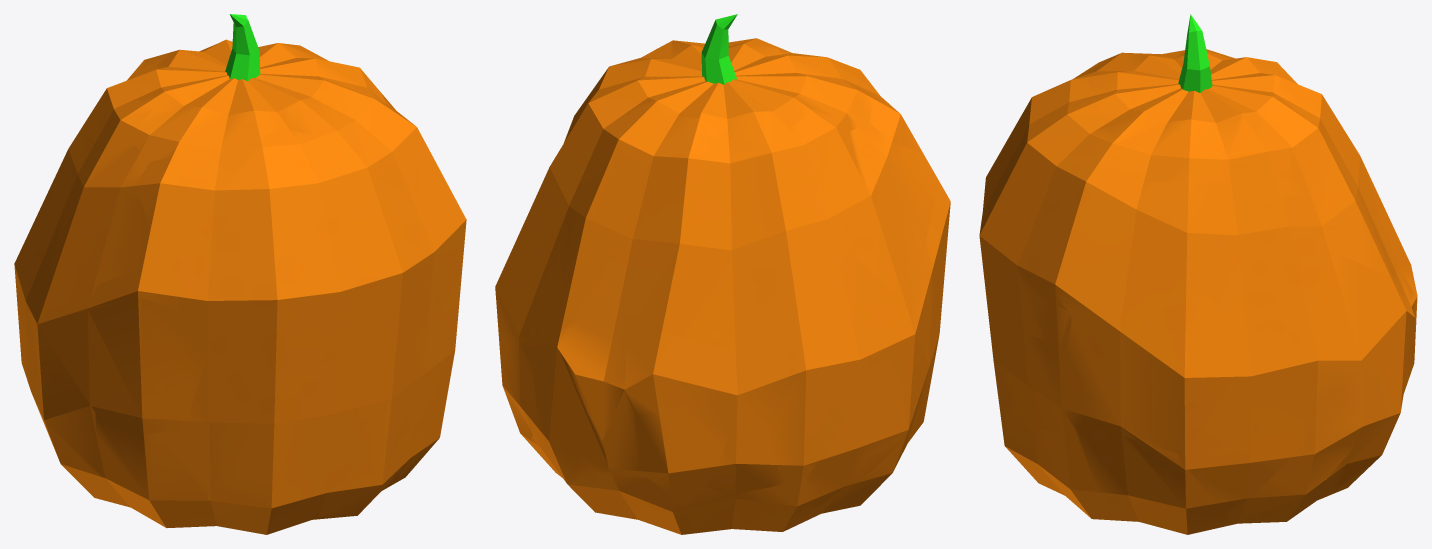
The model's file is Abobora_06_Root.fbx.
3 renders of one model, left to right at view 1: azimuth 30°, elevation 25°; view 2: azimuth 150°, elevation 25°; view 3: azimuth 270°, elevation 25°, orthographic. The views are drawn at different scales.
Parts seen in each view (by area): view 1: Abobora_06_frag_018, Abobora_06_frag_013, Abobora_06_frag_070, Abobora_06_frag_039, Abobora_06_frag_074, Abobora_06_frag_009, Abobora_06_frag_034, Abobora_06_frag_048, Abobora_06_frag_028, Abobora_06_frag_053, Abobora_06_frag_054, Abobora_06_frag_075 (+19 smaller); view 2: Abobora_06_frag_052, Abobora_06_frag_024, Abobora_06_frag_039, Abobora_06_frag_062, Abobora_06_frag_071, Abobora_06_frag_023, Abobora_06_frag_049, Abobora_06_frag_006, Abobora_06_frag_069, Abobora_06_frag_050, Abobora_06_frag_040, Abobora_06_frag_056 (+32 smaller); view 3: Abobora_06_frag_032, Abobora_06_frag_046, Abobora_06_frag_014, Abobora_06_frag_033, Abobora_06_frag_038, Abobora_06_frag_073, Abobora_06_frag_042, Abobora_06_frag_029, Abobora_06_frag_058, Abobora_06_frag_055, Abobora_06_frag_041, Abobora_06_frag_071 (+26 smaller).
Boxes of the visible parts, <box> form: Abobora_06_frag_018: <box>182,218,325,369</box>; Abobora_06_frag_013: <box>45,296,206,434</box>; Abobora_06_frag_070: <box>224,128,389,240</box>; Abobora_06_frag_039: <box>46,142,205,305</box>; Abobora_06_frag_074: <box>184,357,306,474</box>; Abobora_06_frag_009: <box>132,87,283,226</box>; Abobora_06_frag_034: <box>302,330,404,471</box>; Abobora_06_frag_048: <box>95,411,214,527</box>; Abobora_06_frag_028: <box>282,224,390,352</box>; Abobora_06_frag_053: <box>198,458,336,534</box>; Abobora_06_frag_054: <box>377,222,451,354</box>; Abobora_06_frag_075: <box>35,320,113,499</box>; Abobora_06_frag_052: <box>706,106,858,261</box>; Abobora_06_frag_024: <box>742,249,915,371</box>; Abobora_06_frag_039: <box>846,123,939,311</box>; Abobora_06_frag_062: <box>572,207,695,343</box>; Abobora_06_frag_071: <box>589,95,714,215</box>; Abobora_06_frag_023: <box>632,242,753,351</box>; Abobora_06_frag_049: <box>624,330,736,415</box>; Abobora_06_frag_006: <box>770,369,868,485</box>; Abobora_06_frag_069: <box>534,318,606,459</box>; Abobora_06_frag_050: <box>636,403,729,493</box>; Abobora_06_frag_040: <box>805,347,904,490</box>; Abobora_06_frag_056: <box>579,336,641,475</box>; Abobora_06_frag_032: <box>1078,293,1256,454</box>; Abobora_06_frag_046: <box>1205,174,1332,338</box>; Abobora_06_frag_014: <box>1116,181,1237,294</box>; Abobora_06_frag_033: <box>1109,88,1257,184</box>; Abobora_06_frag_038: <box>1074,422,1230,534</box>; Abobora_06_frag_073: <box>1039,196,1128,316</box>; Abobora_06_frag_042: <box>1192,344,1318,442</box>; Abobora_06_frag_029: <box>1311,251,1398,368</box>; Abobora_06_frag_058: <box>995,325,1084,433</box>; Abobora_06_frag_055: <box>1256,299,1361,411</box>; Abobora_06_frag_041: <box>1012,125,1121,201</box>; Abobora_06_frag_071: <box>1257,78,1347,183</box>.
Size of the model in its own units: 27.43 by 30.25 by 26.96.
